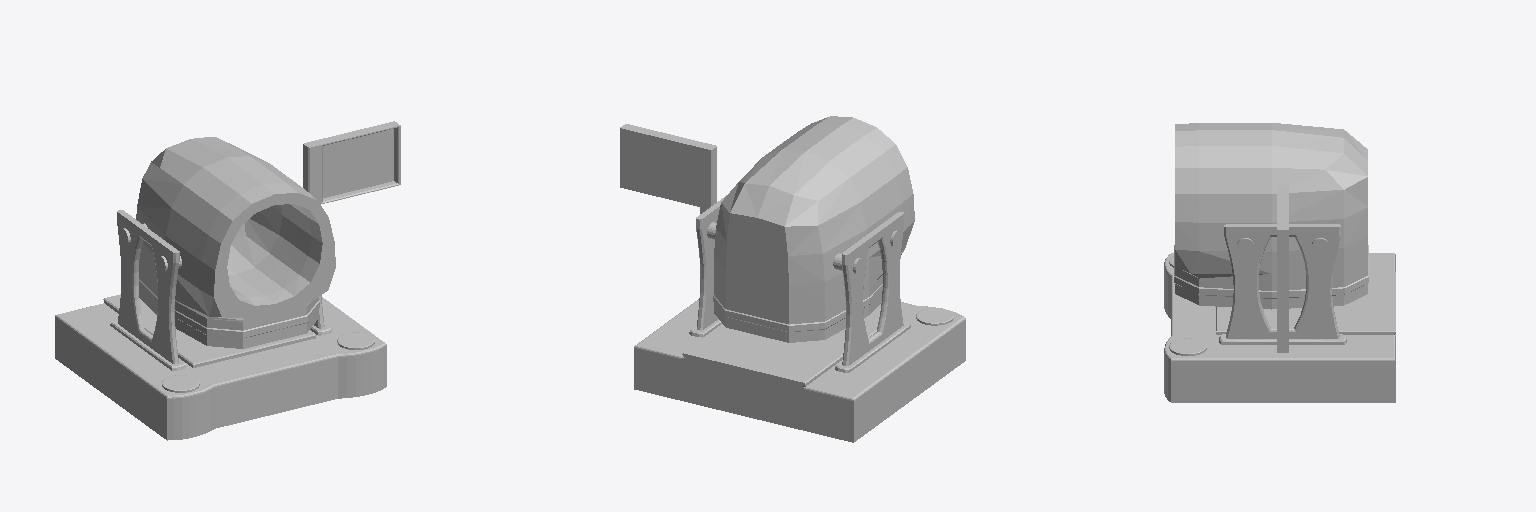
The model's file is PunchingMachine.obj.
3 renders of one model, left to right at view 1: azimuth 30°, elevation 25°; view 2: azimuth 150°, elevation 25°; view 3: azimuth 270°, elevation 25°, orthographic.
Visible parts, largest first — view 1: boxingMachine; view 2: boxingMachine; view 3: boxingMachine.
Boxes of the visible parts, x1,y1,x2,y2 form: boxingMachine: [55, 121, 400, 440]; boxingMachine: [620, 116, 965, 442]; boxingMachine: [1164, 123, 1395, 402].
Size of the model in its own units: 2.85 by 2.08 by 1.99.